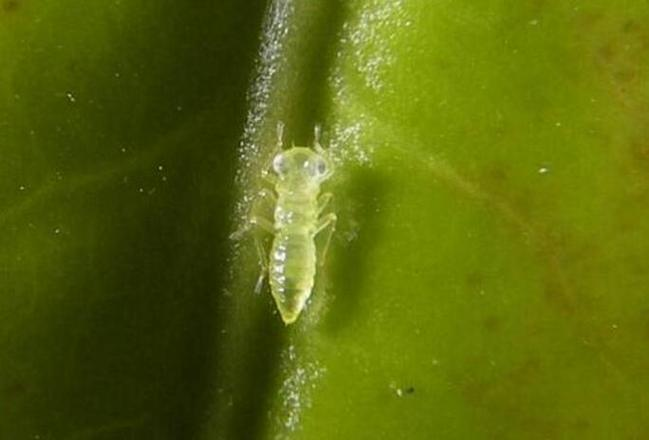Cicadellidae: (230, 123, 337, 325)
